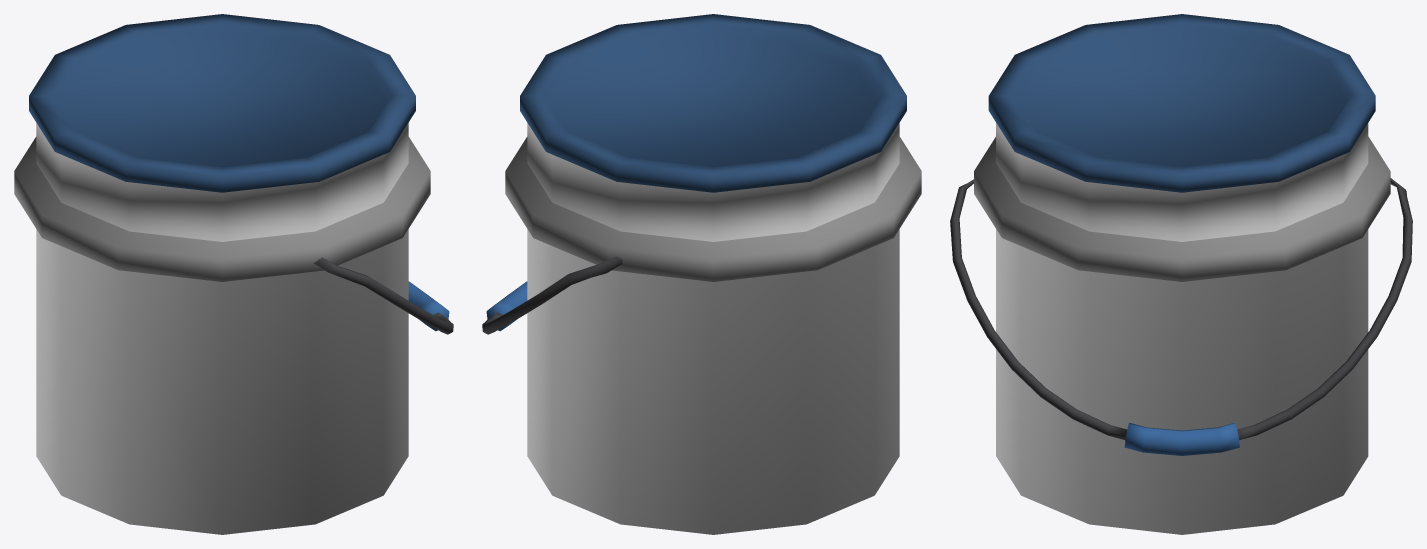
Rendered from PaintBucket_01.glb.
3 views of the same model, side by side, from view 1: azimuth 30°, elevation 25°; view 2: azimuth 150°, elevation 25°; view 3: azimuth 270°, elevation 25° (orthographic).
Parts seen in each view (by area): view 1: PaintBucket_01; view 2: PaintBucket_01; view 3: PaintBucket_01.
Boxes of the visible parts, x1,y1,x2,y2 form: PaintBucket_01: (14, 14, 453, 534); PaintBucket_01: (482, 14, 921, 534); PaintBucket_01: (950, 14, 1412, 534).
Size of what is drawn, in the model's own units: 0.5771 by 0.516 by 0.6003.
Materials: 1 (1 with a texture image).
